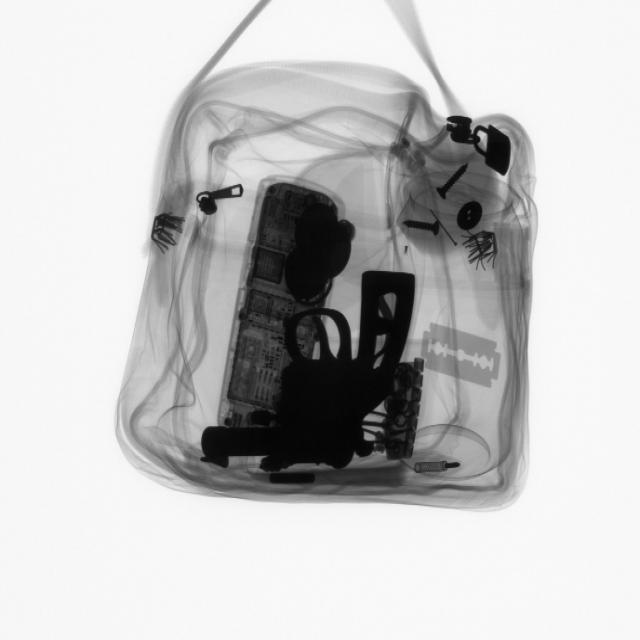BLADE: (418, 317, 507, 391)
GUN: (204, 259, 414, 475)
SCREW: (434, 159, 473, 202), (399, 214, 446, 241)
